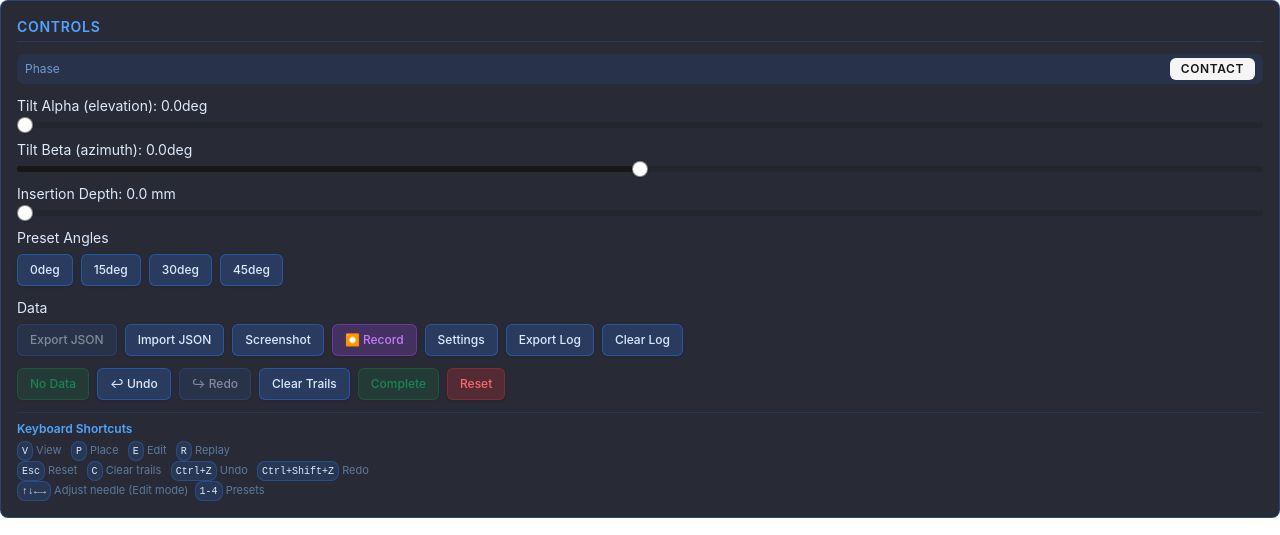
Test: ControlPanel › Reset button resets the simulation
The width and height of the screenshot is (1280, 535).
Step 1. Click the button "Reset" → coordinates (476, 384), box [447,368,505,400]
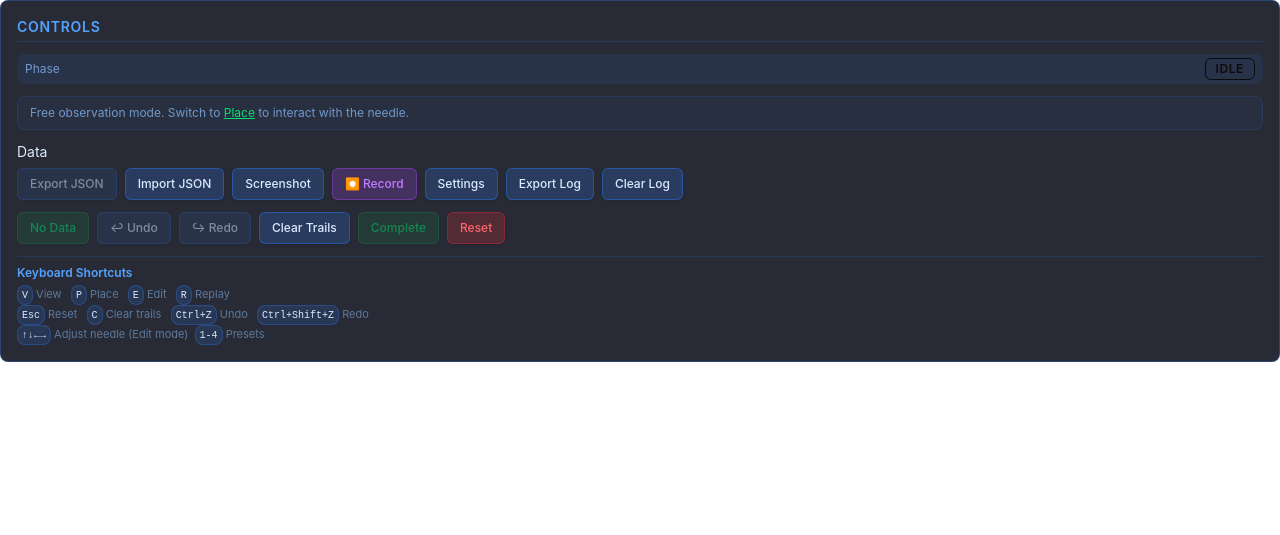
Expected: the text "IDLE" is shown, [1204,58,1255,80]
